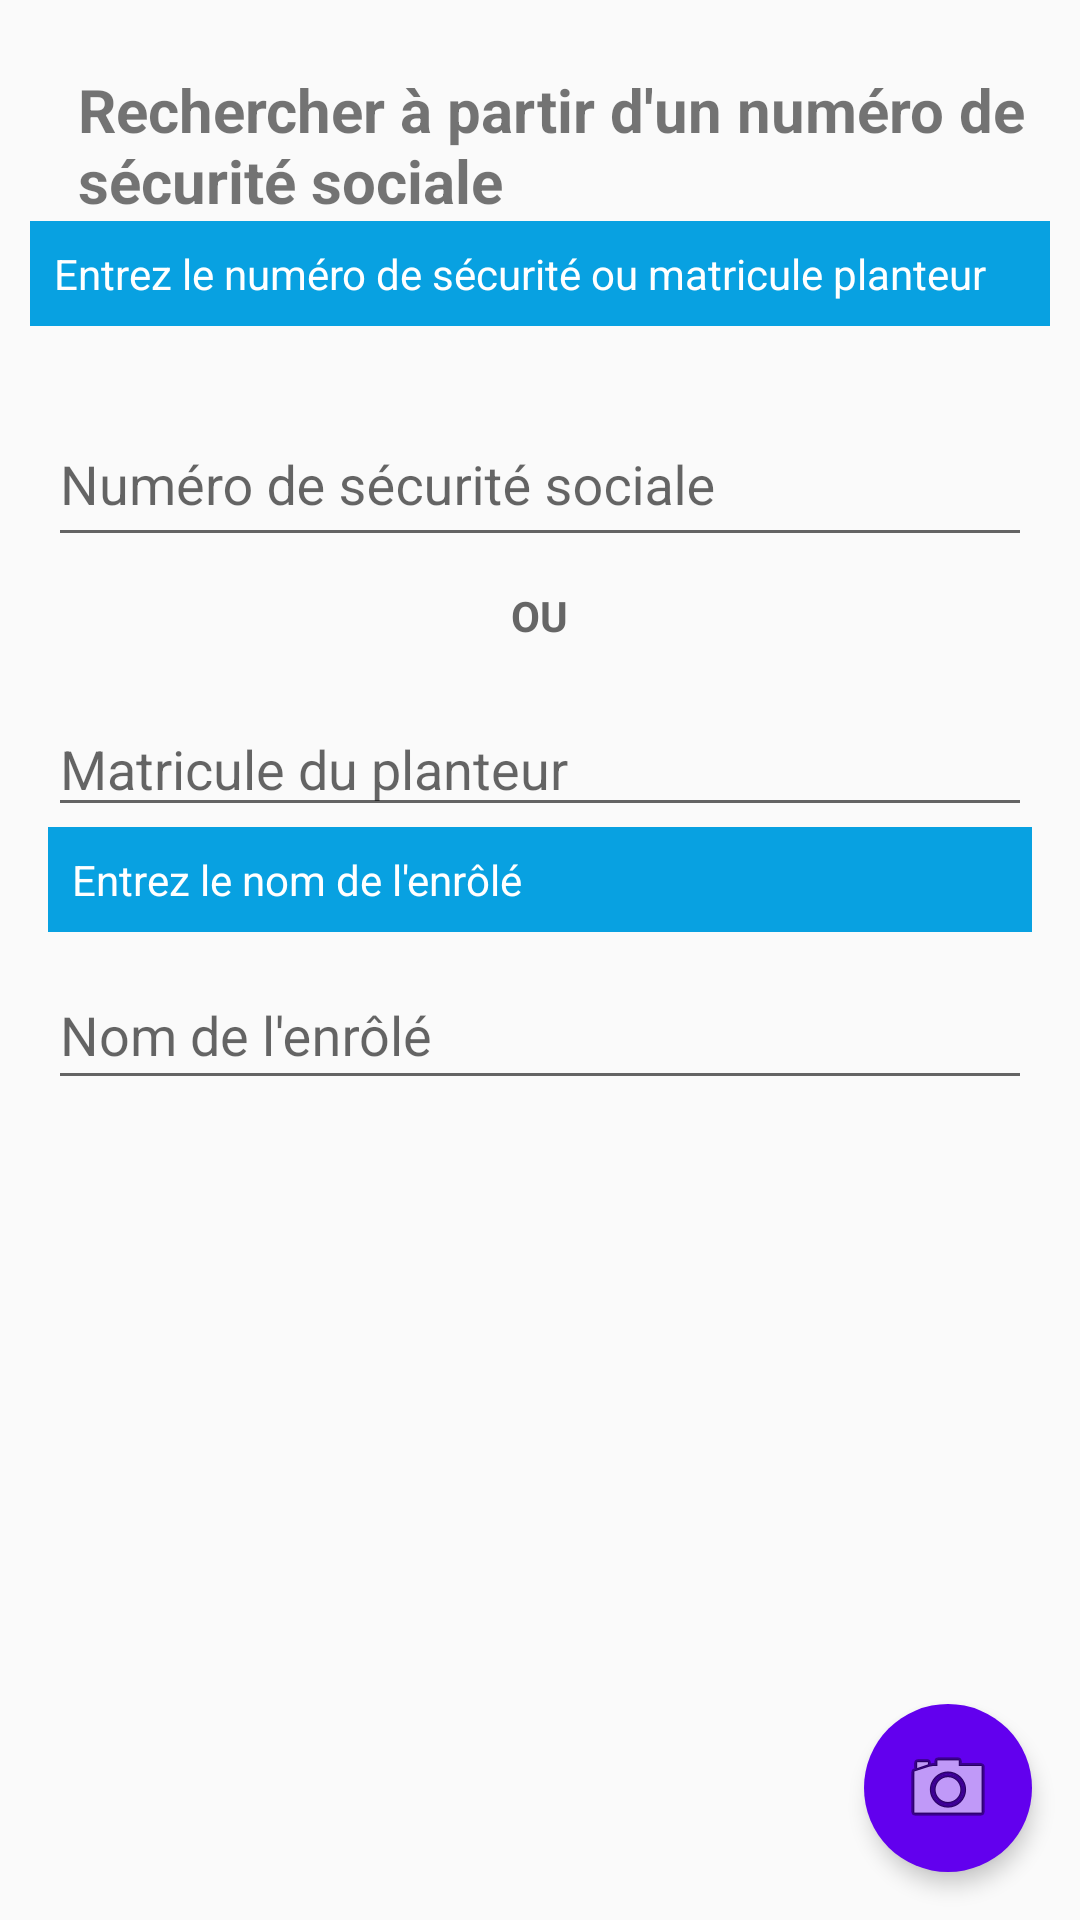

Named icons in this screenshot (1080px x 1920px) and their centers, [x,y]:
Prendre une photo: [948,1788]
